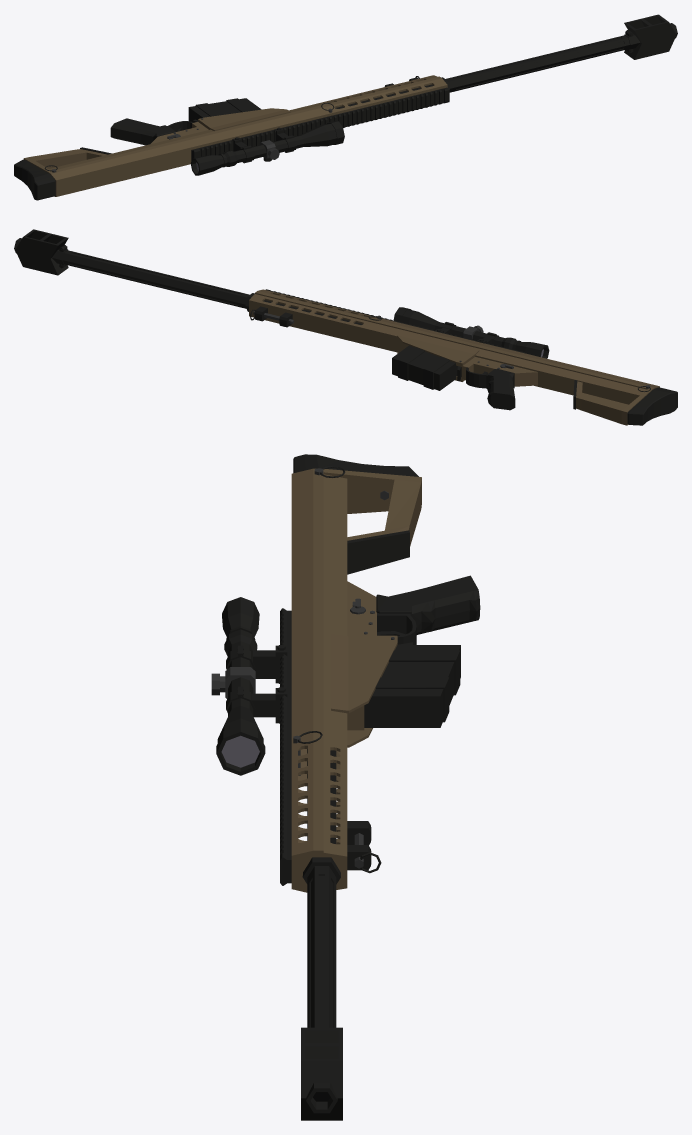
Rendered from barrett.glb.
The picture shows the model from 3 angles, top to bottom: view 1: azimuth 30°, elevation 25°; view 2: azimuth 150°, elevation 25°; view 3: azimuth 270°, elevation 25°; orthographic projection. The views are drawn at different scales.
Size of the model in its own units: 1.58 by 0.0791 by 0.2858.
